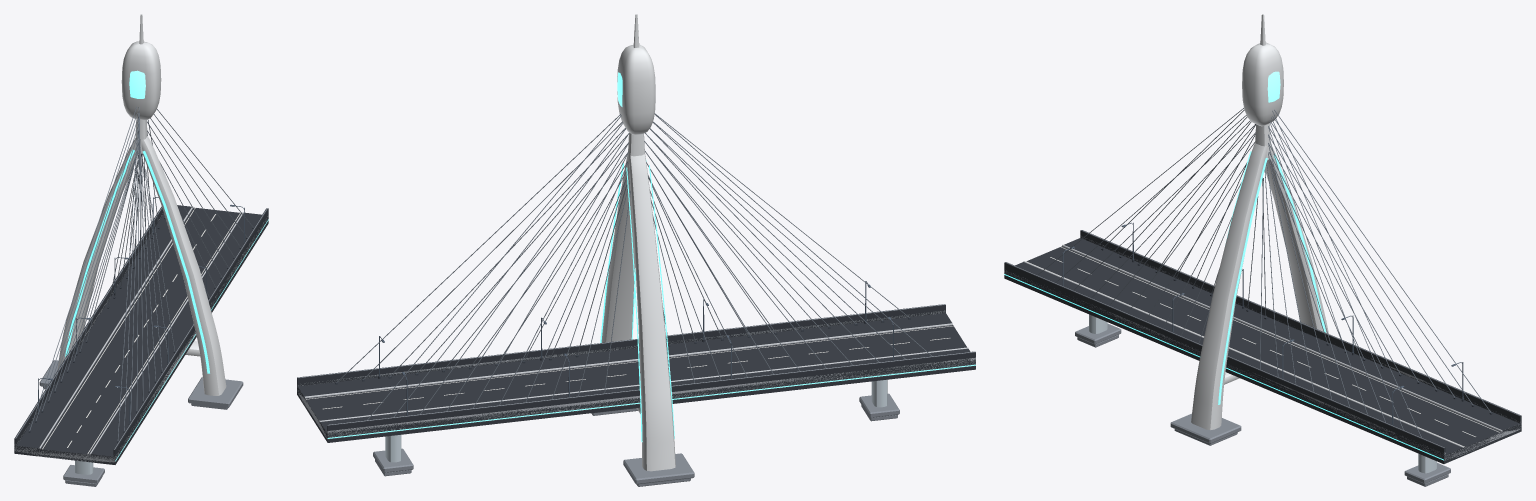
The model's file is ponte_diagonal_estaiada.glb.
The picture shows the model from 3 angles, left to right: view 1: azimuth 30°, elevation 25°; view 2: azimuth 150°, elevation 25°; view 3: azimuth 270°, elevation 25°; orthographic projection. The views are drawn at different scales.
Parts seen in each view (by area): view 1: colisao_tabuleiro, ponte_diagonal_estaiada; view 2: ponte_diagonal_estaiada, colisao_tabuleiro; view 3: colisao_tabuleiro, ponte_diagonal_estaiada.
Part boxes in pixels (x1,y1,x2,y2): colisao_tabuleiro: (14,205,268,464); ponte_diagonal_estaiada: (14,14,268,486); ponte_diagonal_estaiada: (297,14,975,486); colisao_tabuleiro: (297,304,975,442); colisao_tabuleiro: (1004,230,1521,463); ponte_diagonal_estaiada: (1004,14,1520,486).
Bounding box in the file's own units: 70.62 × 59.4 × 70.62.
Materials: 4 (1 with a texture image).
